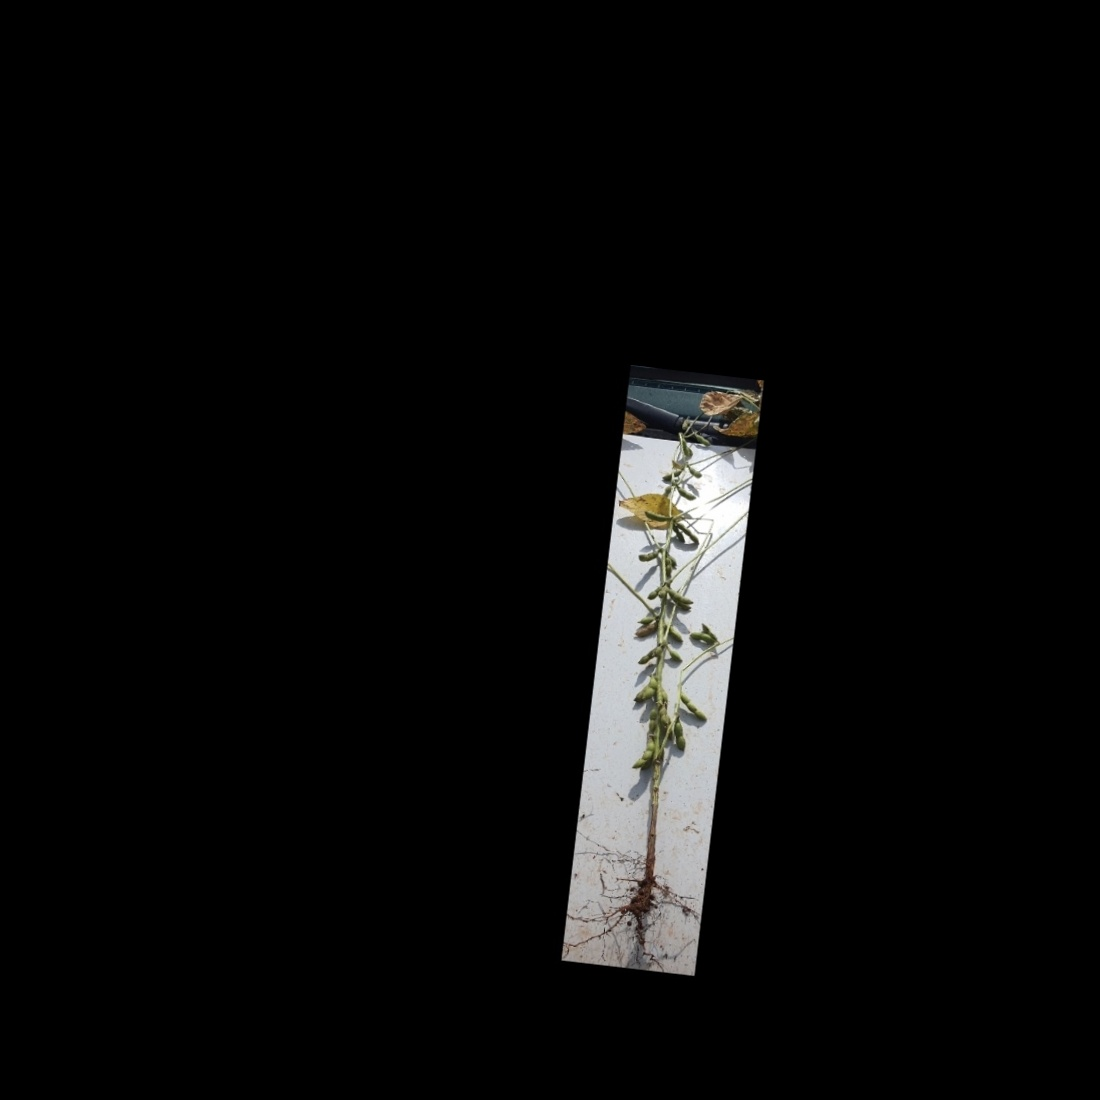pod: (676, 692, 711, 723), (630, 737, 656, 772), (670, 719, 690, 753), (677, 521, 702, 546), (686, 629, 715, 646), (667, 588, 695, 605), (674, 484, 699, 501), (642, 509, 672, 523), (666, 624, 685, 646), (635, 548, 660, 563), (665, 646, 684, 663), (646, 708, 658, 734), (692, 432, 712, 447), (662, 556, 675, 579), (686, 466, 704, 480), (678, 415, 691, 432), (680, 439, 691, 457)
soy: (575, 405, 747, 939)
